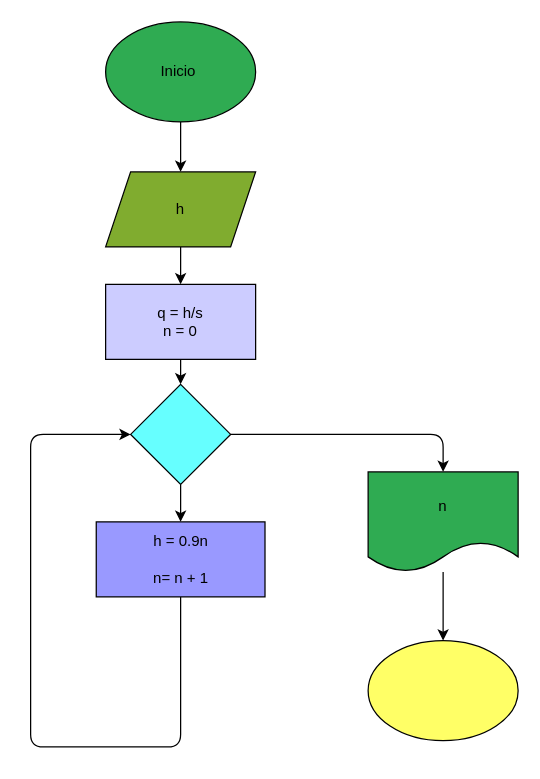
This 540x779 diagram has some shape labels left out. The shapes that lost their labels are listed below. From the top down, each one's box as (x1, y1, x2, y2) in pixels, then its label:
(129, 383, 231, 484): h>=q
(367, 639, 518, 741): Fin
